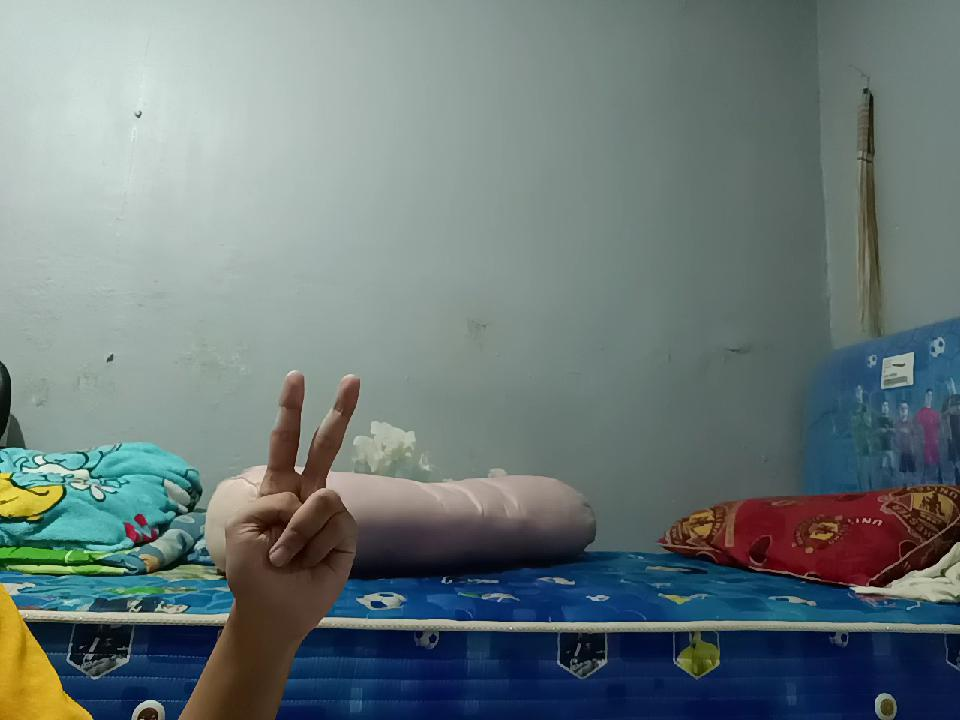scissors: (204, 351, 370, 620)
